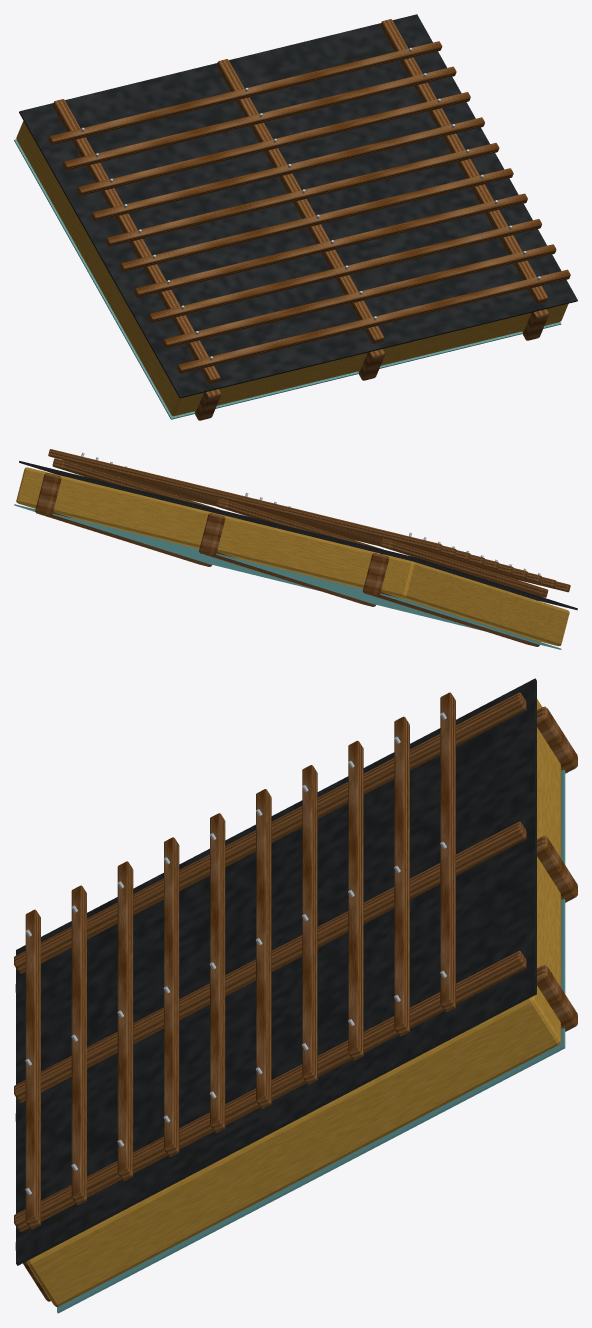
Rendered from modell.glb.
3 renders of one model, top to bottom at view 1: azimuth 30°, elevation 25°; view 2: azimuth 150°, elevation 25°; view 3: azimuth 270°, elevation 25°, orthographic. The views are drawn at different scales.
Parts seen in each view (by area): view 1: g03-zusatzebene_zusatzebene, g03-lattung_lattung, g03-anschluss_daemmung, g03-daemmung_daemmung, g03-luftdichtheit_luftdichtheit, g03-sparren_tragwerk; view 2: g03-daemmung_daemmung, g03-lattung_lattung, g03-anschluss_daemmung, g03-sparren_tragwerk, g03-luftdichtheit_luftdichtheit, g03-zusatzebene_zusatzebene; view 3: g03-zusatzebene_zusatzebene, g03-lattung_lattung, g03-daemmung_daemmung, g03-luftdichtheit_luftdichtheit, g03-sparren_tragwerk, g03-befestigung_lattung.
Part boxes in pixels (bbox=[...]): g03-zusatzebene_zusatzebene: bbox=[19, 14, 577, 398]; g03-lattung_lattung: bbox=[48, 19, 570, 384]; g03-anschluss_daemmung: bbox=[16, 121, 203, 416]; g03-daemmung_daemmung: bbox=[217, 303, 568, 405]; g03-luftdichtheit_luftdichtheit: bbox=[14, 139, 561, 419]; g03-sparren_tragwerk: bbox=[194, 309, 548, 420]; g03-daemmung_daemmung: bbox=[16, 467, 381, 588]; g03-lattung_lattung: bbox=[48, 449, 570, 597]; g03-anschluss_daemmung: bbox=[381, 554, 569, 646]; g03-sparren_tragwerk: bbox=[35, 473, 539, 646]; g03-luftdichtheit_luftdichtheit: bbox=[14, 504, 561, 649]; g03-zusatzebene_zusatzebene: bbox=[19, 461, 577, 610]; g03-zusatzebene_zusatzebene: bbox=[16, 678, 536, 1265]; g03-lattung_lattung: bbox=[14, 692, 526, 1232]; g03-daemmung_daemmung: bbox=[27, 727, 561, 1306]; g03-luftdichtheit_luftdichtheit: bbox=[57, 769, 565, 1313]; g03-sparren_tragwerk: bbox=[15, 706, 577, 1301]; g03-befestigung_lattung: bbox=[25, 712, 446, 1194].
Bounding box in the file's own units: 2.09 × 1.07 × 1.59.
Materials: 5 (3 with a texture image).
